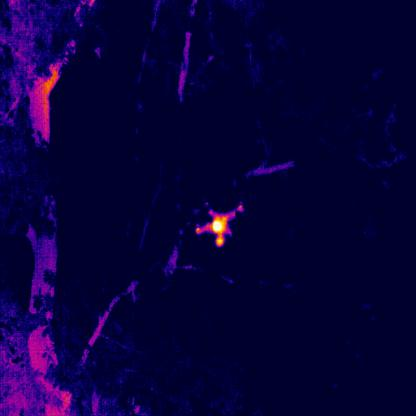drone: (194, 200, 244, 246)
